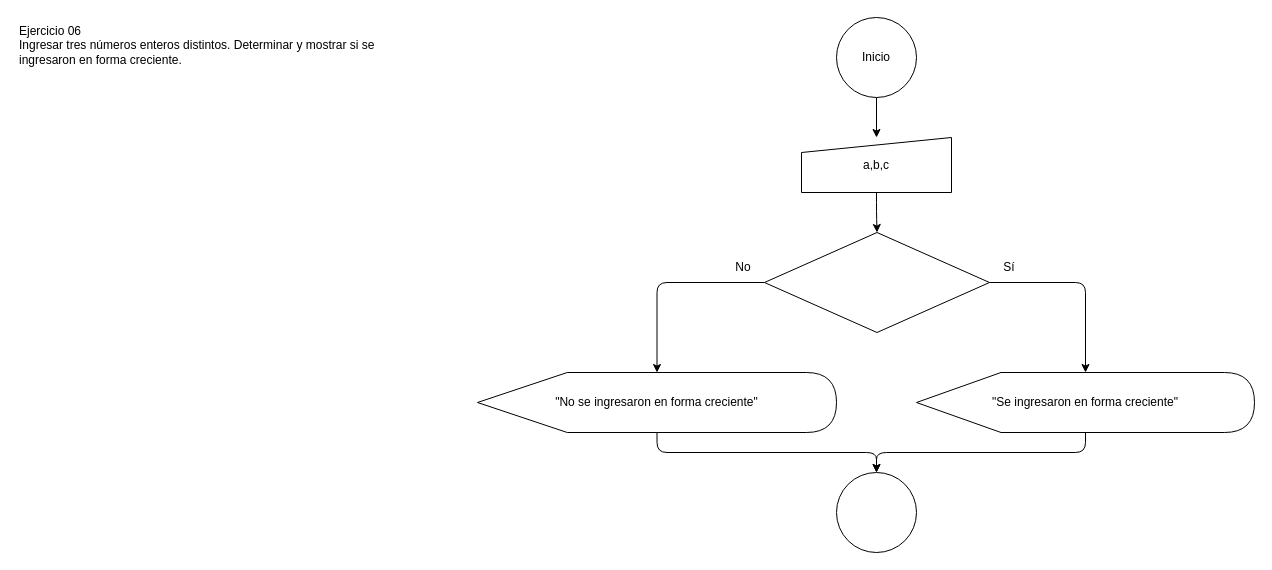
Some shapes in this 1272 by 570 pixel diagram are drawn without their labels. The shapes that lost their labels are listed below. From the top down, each one's centre as x and y in pixels, then its label:
pixel 877 282: a < b Y b < c
pixel 876 512: Fin
